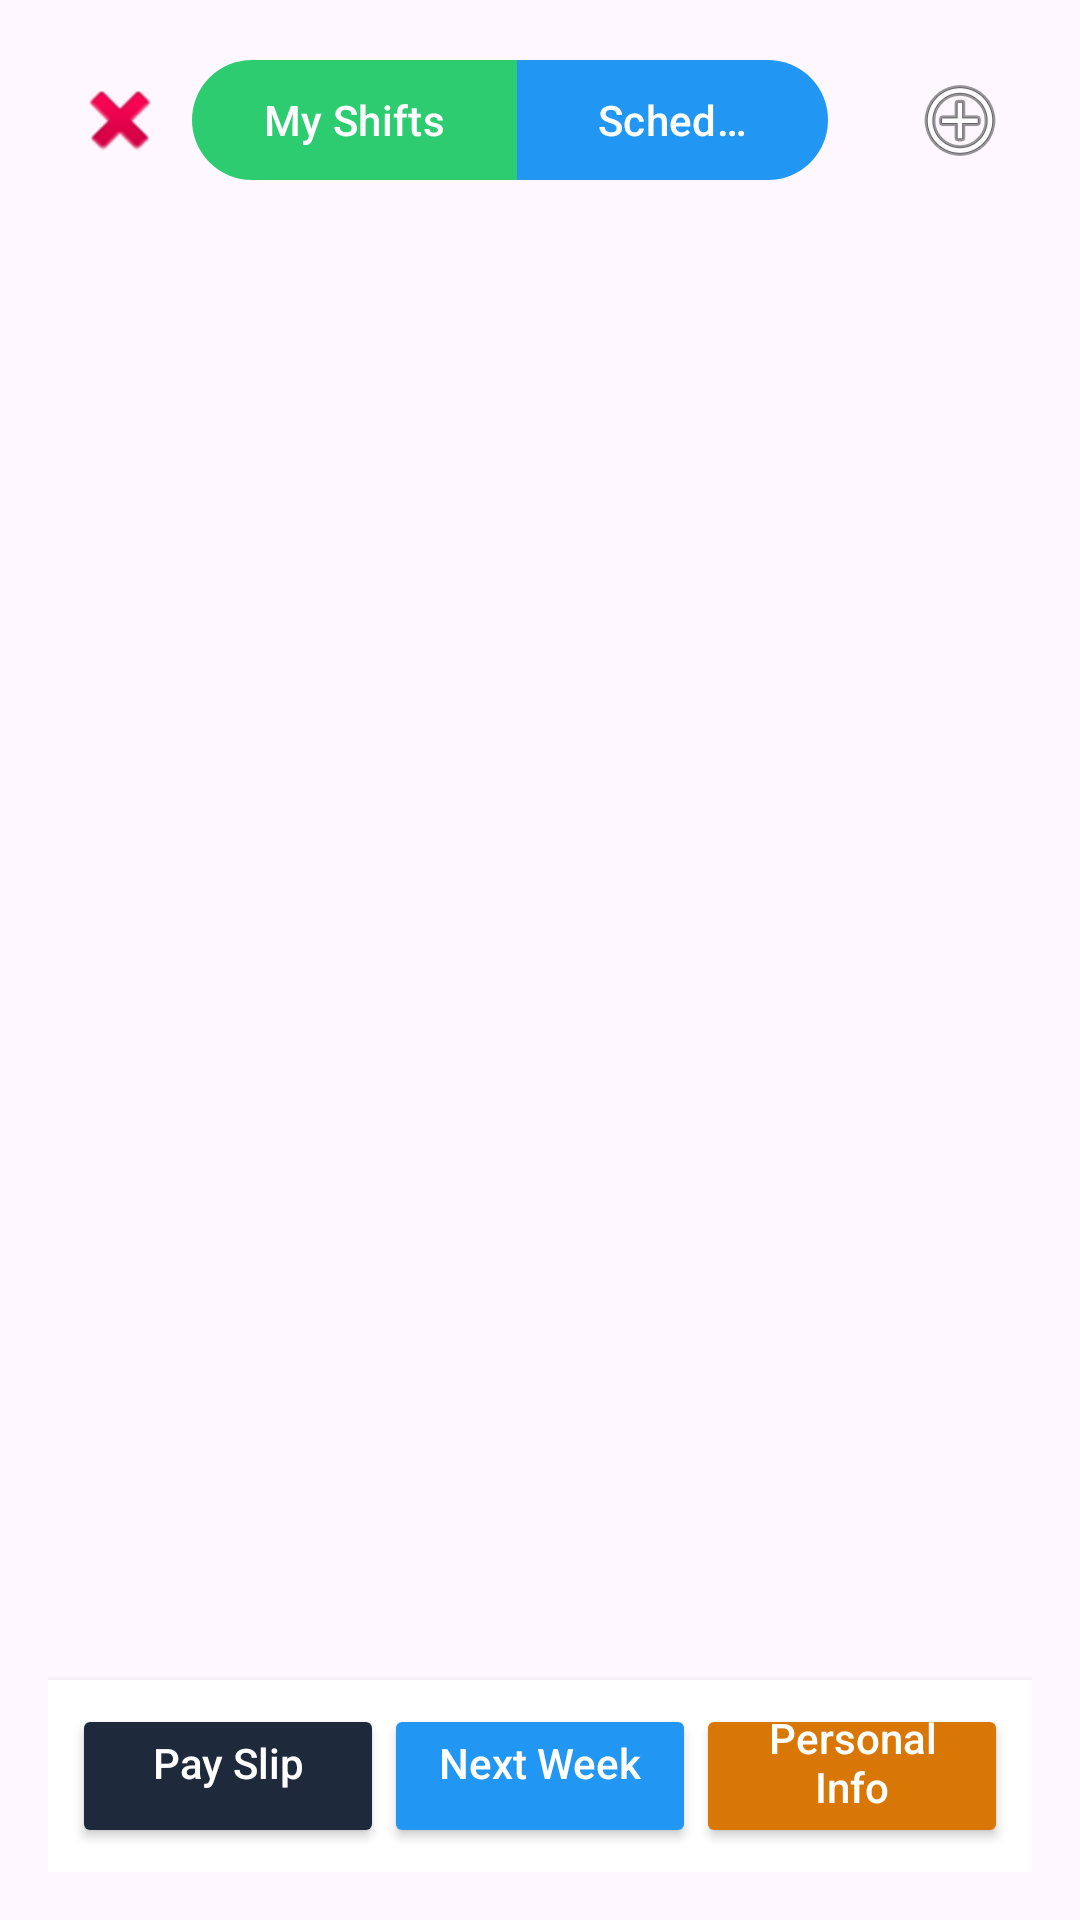

Where icons sit on this 1080 × 1920 app screen, as (x1, y1, x2, y2):
Add a new shift: (924, 85, 996, 156)
Delete Shift: (89, 91, 151, 150)
